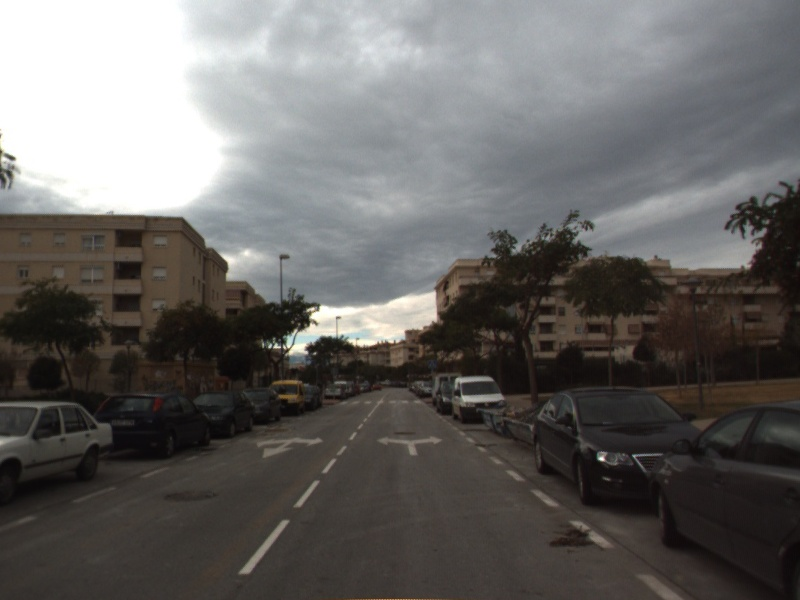LEFT_RIGHT: (374, 433, 445, 458)
